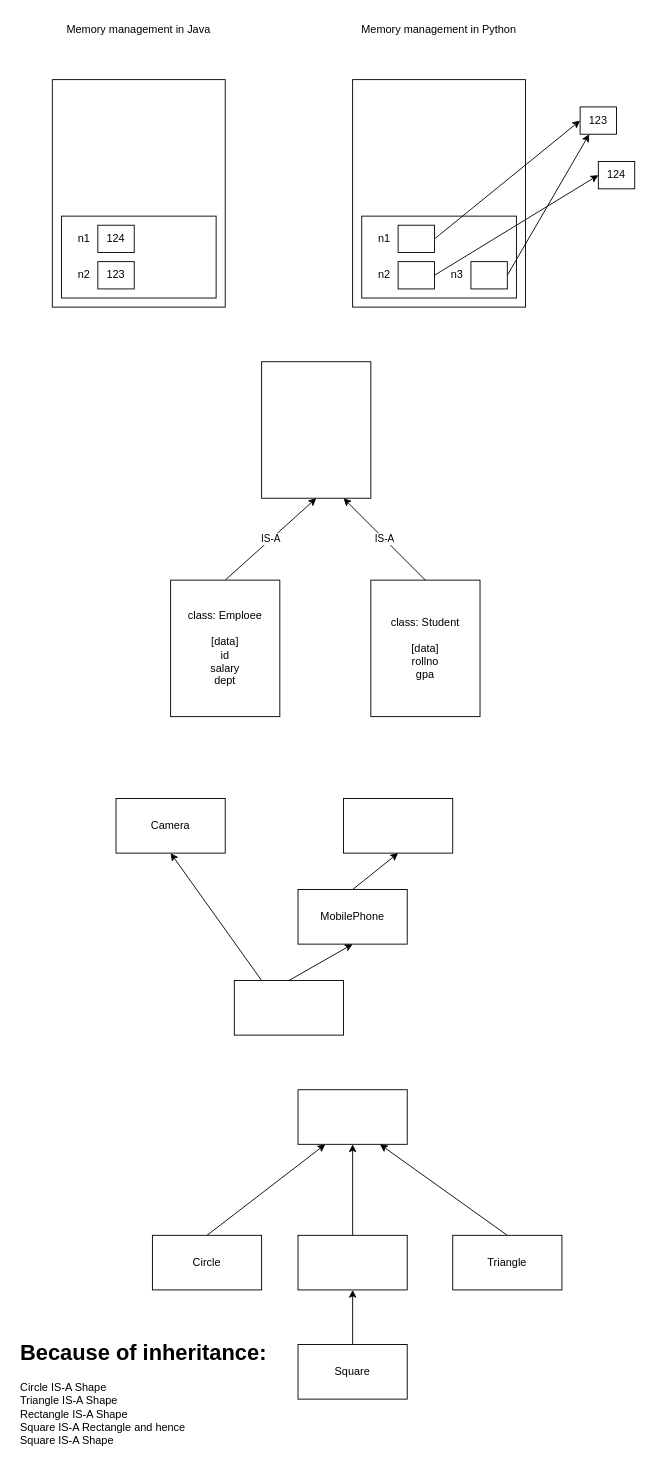
Some shapes in this 651 by 1478 pixel diagram are drawn without their labels. The centre of each missing label's shape, as x and y in pixels:
"class: Person [data] name email phone" belongs at point (316, 429).
"Phone" belongs at point (398, 825).
"Rectangle" belongs at point (352, 1262).
"Shape [methods] print_area()" belongs at point (352, 1116).
"SmartPhone" belongs at point (288, 1007).
